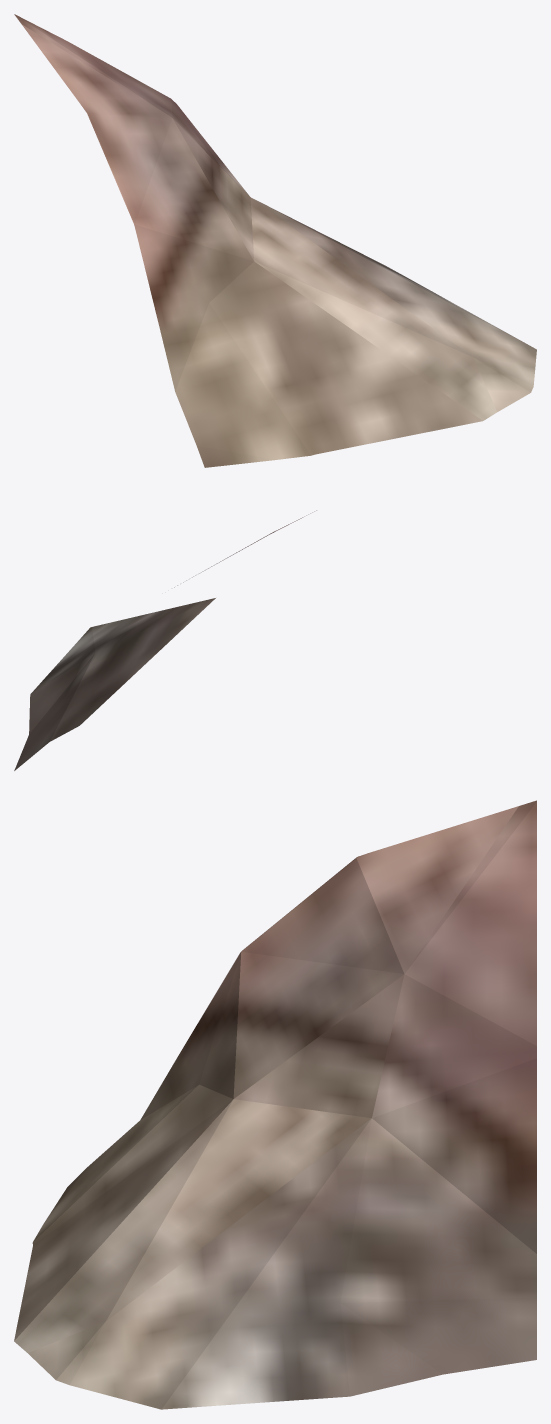
The picture shows the model from 3 angles, top to bottom: view 1: azimuth 30°, elevation 25°; view 2: azimuth 150°, elevation 25°; view 3: azimuth 270°, elevation 25°; orthographic projection. The views are drawn at different scales.
Size of the model in its own units: 0.117 by 0.0949 by 0.1163.
Materials: 1 (1 with a texture image).
